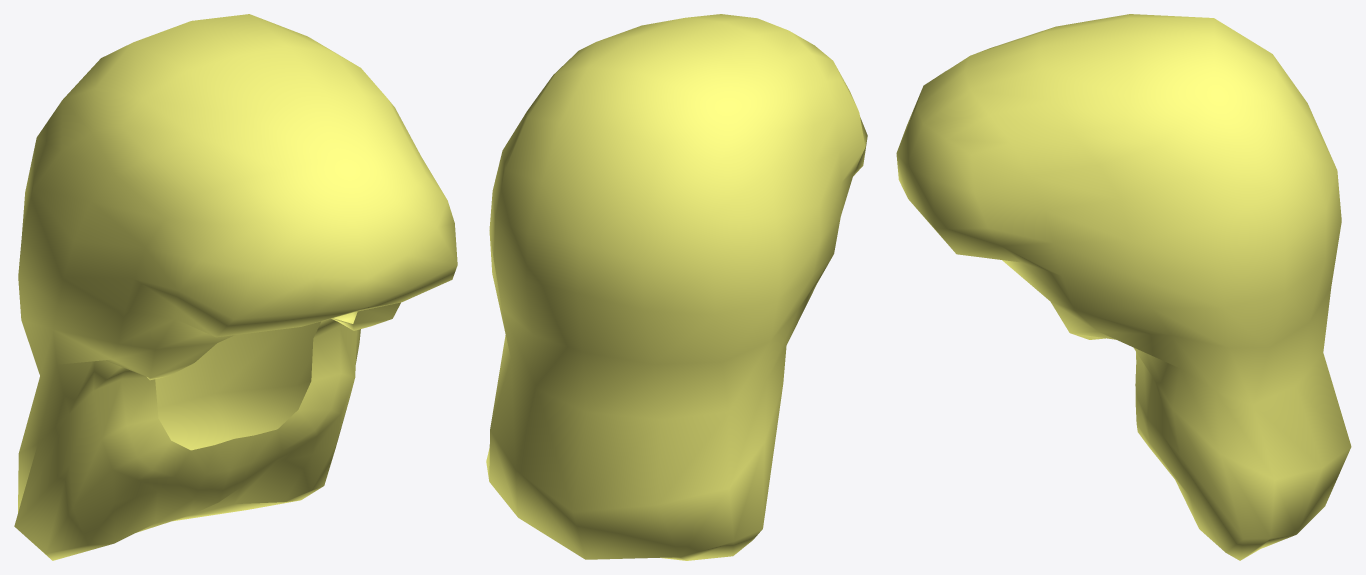
The model's file is NPC_BlondeHair2.gltf.
The picture shows the model from 3 angles, left to right: view 1: azimuth 30°, elevation 25°; view 2: azimuth 150°, elevation 25°; view 3: azimuth 270°, elevation 25°; orthographic projection. The views are drawn at different scales.
Parts seen in each view (by area): view 1: NPC_BlondeHair.003; view 2: NPC_BlondeHair.003; view 3: NPC_BlondeHair.003.
Boxes of the visible parts, x1,y1,x2,y2 form: NPC_BlondeHair.003: [14, 14, 457, 560]; NPC_BlondeHair.003: [486, 14, 867, 560]; NPC_BlondeHair.003: [896, 14, 1351, 560].
Bounding box in the file's own units: 0.5966 × 0.8927 × 0.7706.
1 material, 1 textured.
